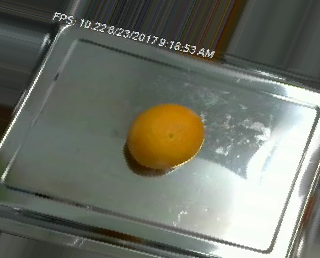Orange: (126, 102, 205, 170)
